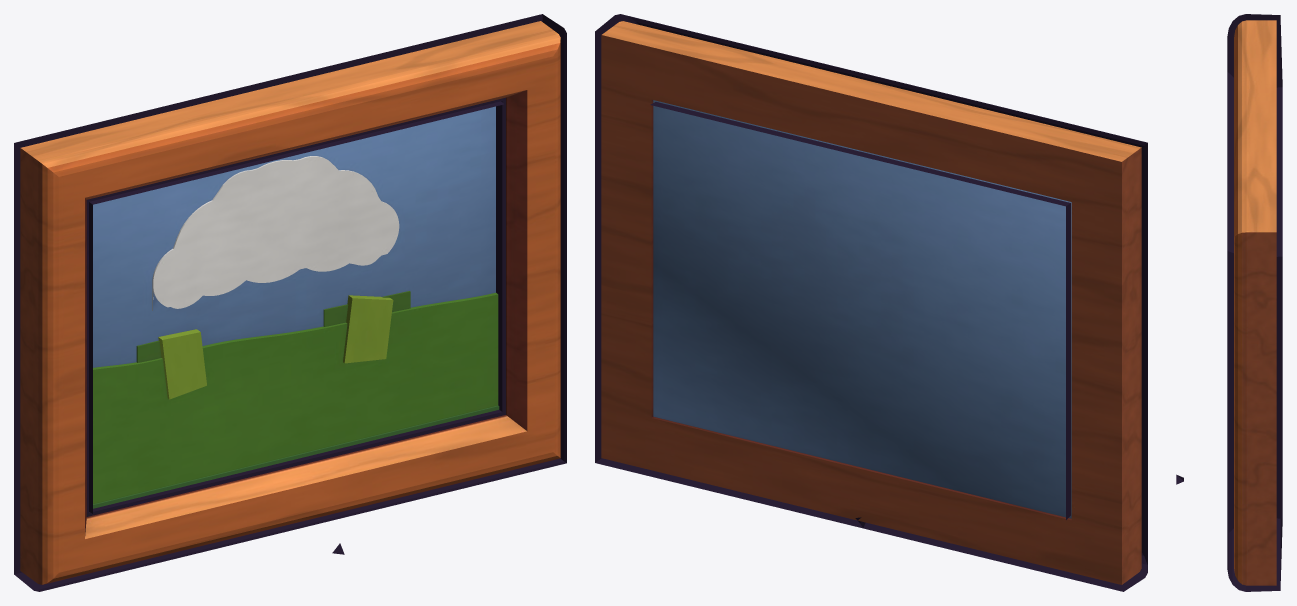
Rendered from Picture.glb.
3 renders of one model, left to right at view 1: azimuth 30°, elevation 25°; view 2: azimuth 150°, elevation 25°; view 3: azimuth 270°, elevation 25°, orthographic. The views are drawn at different scales.
Visible parts, largest first — view 1: Picture, Picture_Outline; view 2: Picture, Picture_Outline; view 3: Picture, Picture_Outline.
Part boxes in pixels (bbox=[...]): Picture: bbox=[20, 21, 560, 584]; Picture_Outline: bbox=[14, 14, 566, 591]; Picture: bbox=[601, 21, 1141, 584]; Picture_Outline: bbox=[595, 14, 1147, 591]; Picture: bbox=[1234, 20, 1276, 585]; Picture_Outline: bbox=[1227, 14, 1282, 591].
Size of the model in its own units: 5.3 by 4.14 by 1.1.
Materials: 2 (2 with a texture image).
